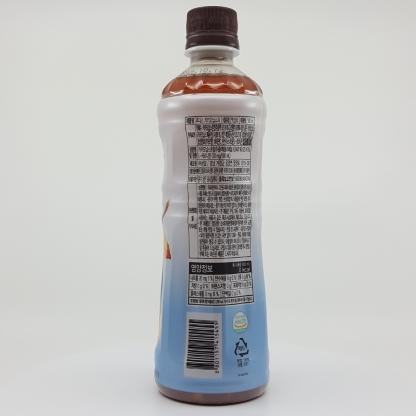------500ML: (154, 6, 269, 404)
